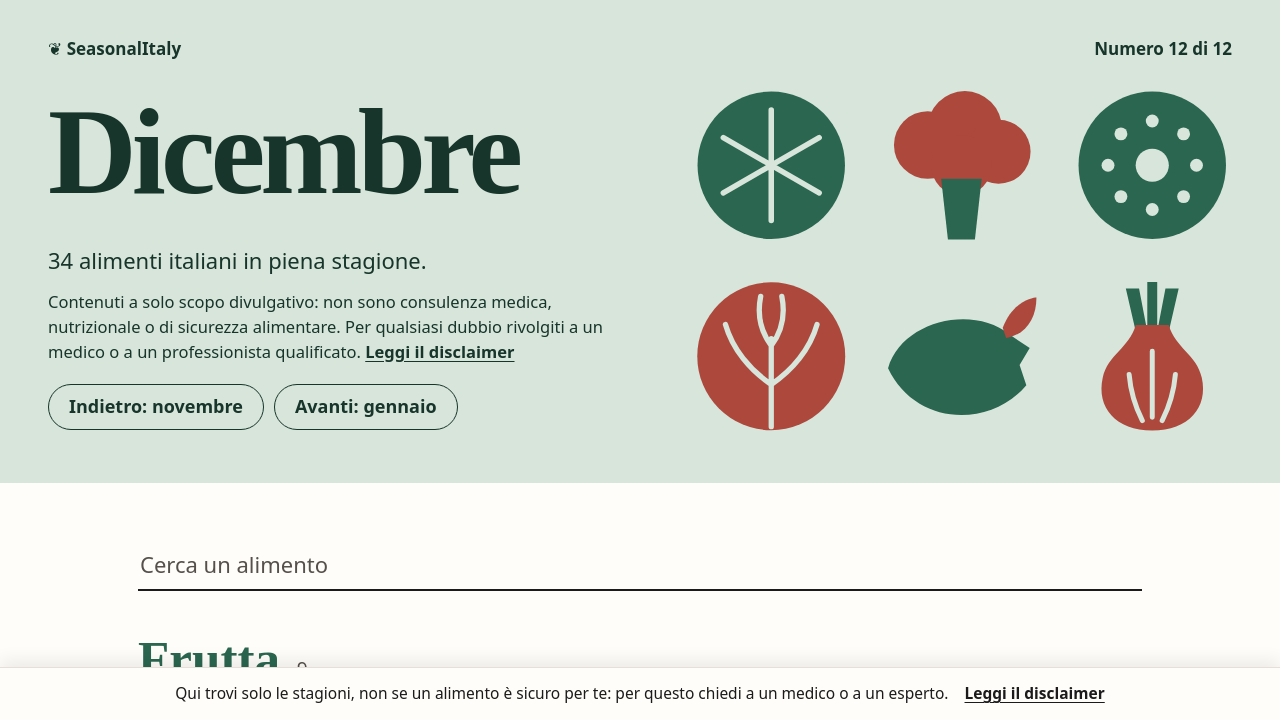
Scenario: App › turns the month from the cover without moving the page
What coordinates should you click on to do the following:
click the button "Avanti: gennaio"
I would click on:
 (366, 407)
Its box is [274, 384, 458, 430].
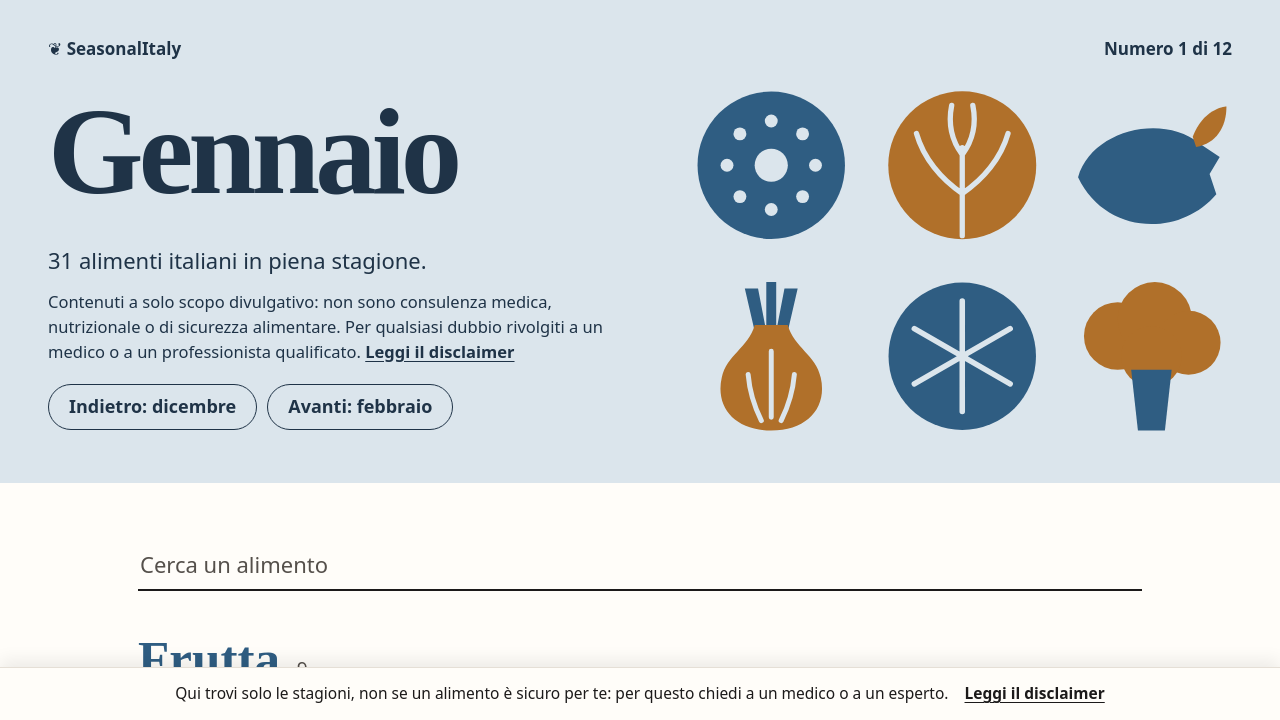
Check: the heading "gennaio" is shown, box [48, 83, 457, 220]
